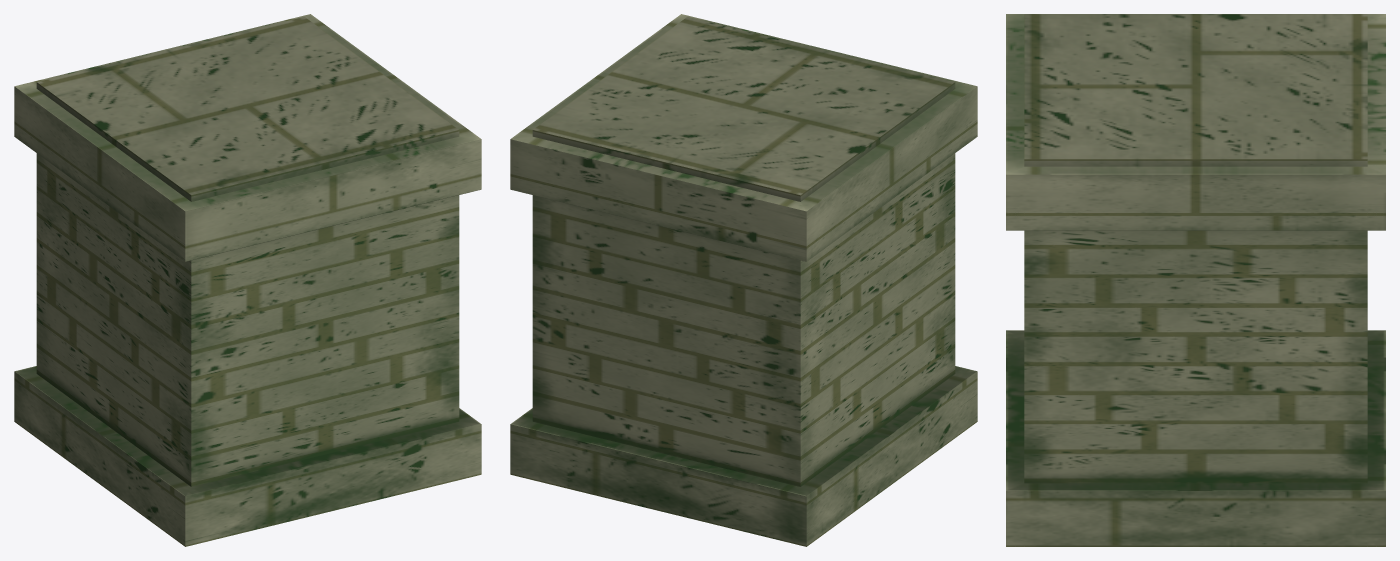
The model's file is Pillar Short.fbx.
3 renders of one model, left to right at view 1: azimuth 30°, elevation 25°; view 2: azimuth 150°, elevation 25°; view 3: azimuth 270°, elevation 25°, orthographic. The views are drawn at different scales.
Parts seen in each view (by area): view 1: Pillar Short; view 2: Pillar Short; view 3: Pillar Short.
Boxes of the visible parts, x1,y1,x2,y2 form: Pillar Short: (14, 14, 481, 546); Pillar Short: (510, 14, 977, 546); Pillar Short: (1006, 14, 1385, 546).
Size of the model in its own units: 151 by 166 by 151.
Materials: 1 (1 with a texture image).
